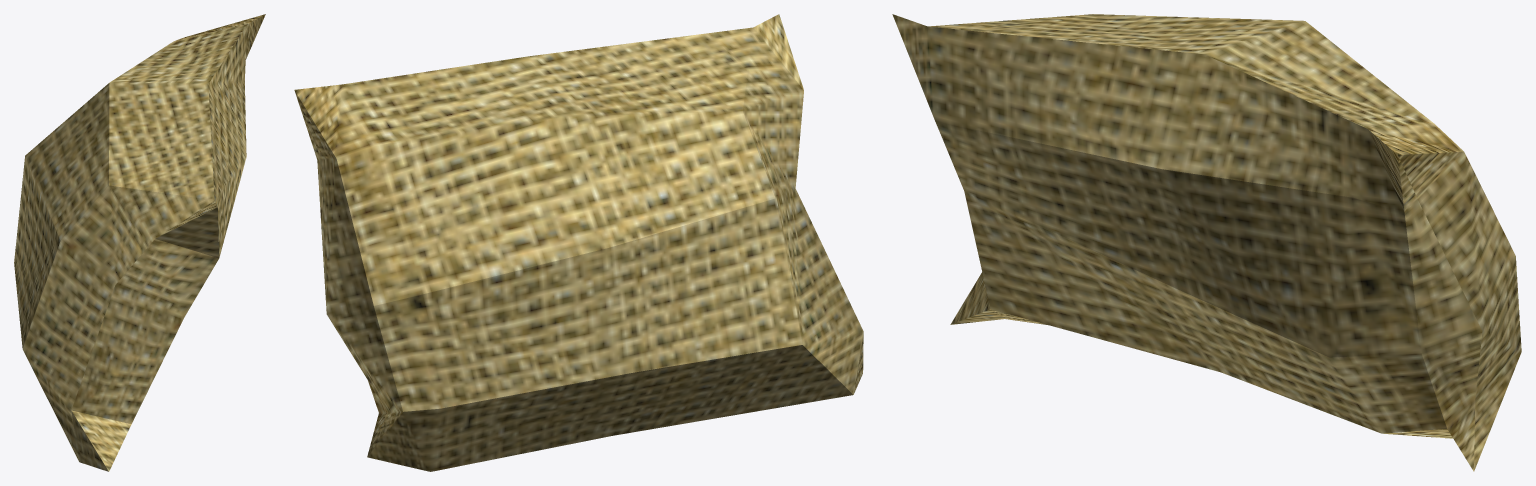
Rendered from sack_04.fbx.
3 renders of one model, left to right at view 1: azimuth 30°, elevation 25°; view 2: azimuth 150°, elevation 25°; view 3: azimuth 270°, elevation 25°, orthographic. The views are drawn at different scales.
Parts seen in each view (by area): view 1: sack_1; view 2: sack_1; view 3: sack_1.
Part boxes in pixels (x1,y1,x2,y2): sack_1: (14, 14, 265, 471); sack_1: (294, 14, 863, 471); sack_1: (892, 14, 1521, 471).
Size of the model in its own units: 76.52 by 61.81 by 87.13.
